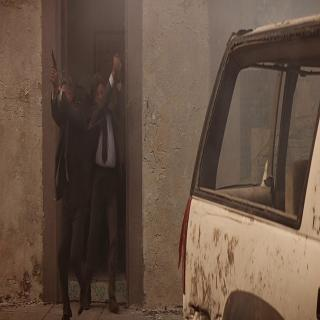gun: (48, 40, 61, 83)
